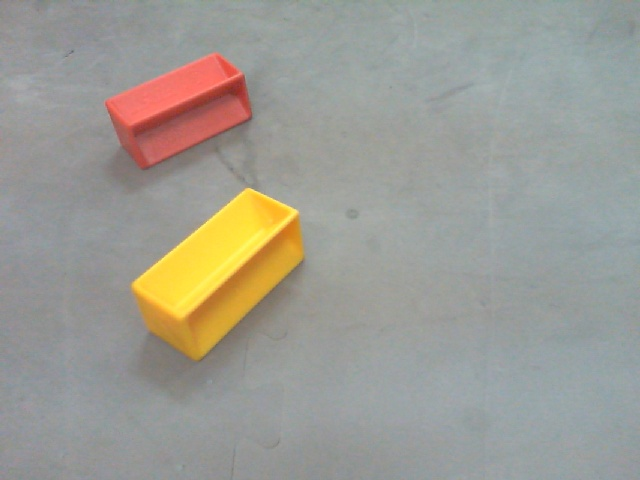RedSample: (102, 49, 256, 175)
YellowSample: (128, 181, 306, 364)
